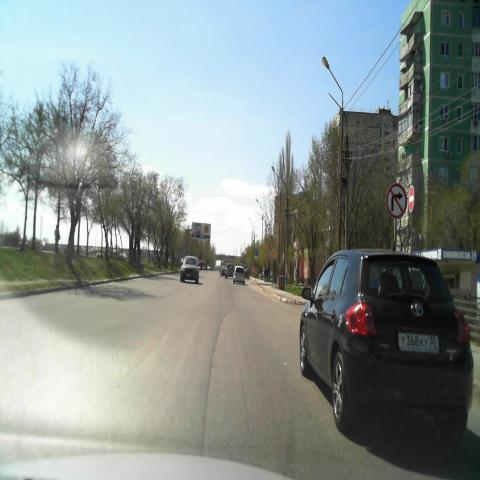3_18: (385, 182, 407, 218)
